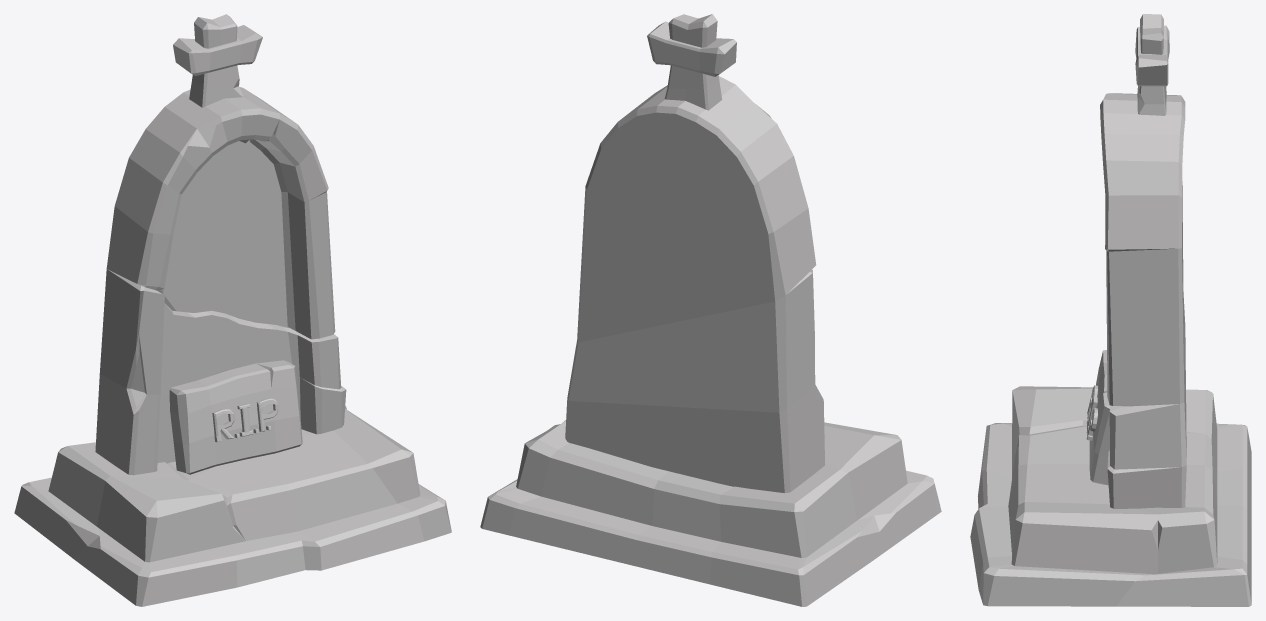
The model's file is WF_LP_HT_Props_Gravestone.001.fbx.
The picture shows the model from 3 angles, left to right: view 1: azimuth 30°, elevation 25°; view 2: azimuth 150°, elevation 25°; view 3: azimuth 270°, elevation 25°; orthographic projection. The views are drawn at different scales.
Parts seen in each view (by area): view 1: WF_LP_HT_Props_Gravestone.001; view 2: WF_LP_HT_Props_Gravestone.001; view 3: WF_LP_HT_Props_Gravestone.001.
Boxes of the visible parts, bbox=[...] form: WF_LP_HT_Props_Gravestone.001: bbox=[14, 14, 451, 606]; WF_LP_HT_Props_Gravestone.001: bbox=[480, 14, 941, 606]; WF_LP_HT_Props_Gravestone.001: bbox=[970, 14, 1251, 606].
Bounding box in the file's own units: 1.12 × 1.67 × 0.8411.
